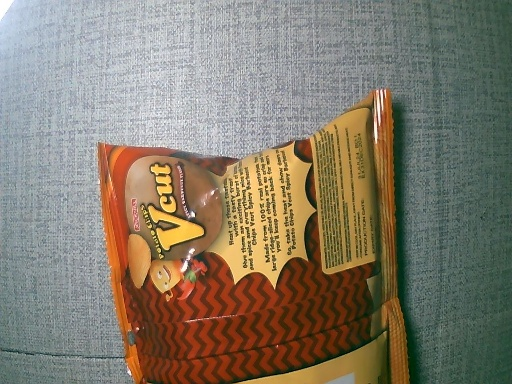plastic: (94, 87, 403, 384)
